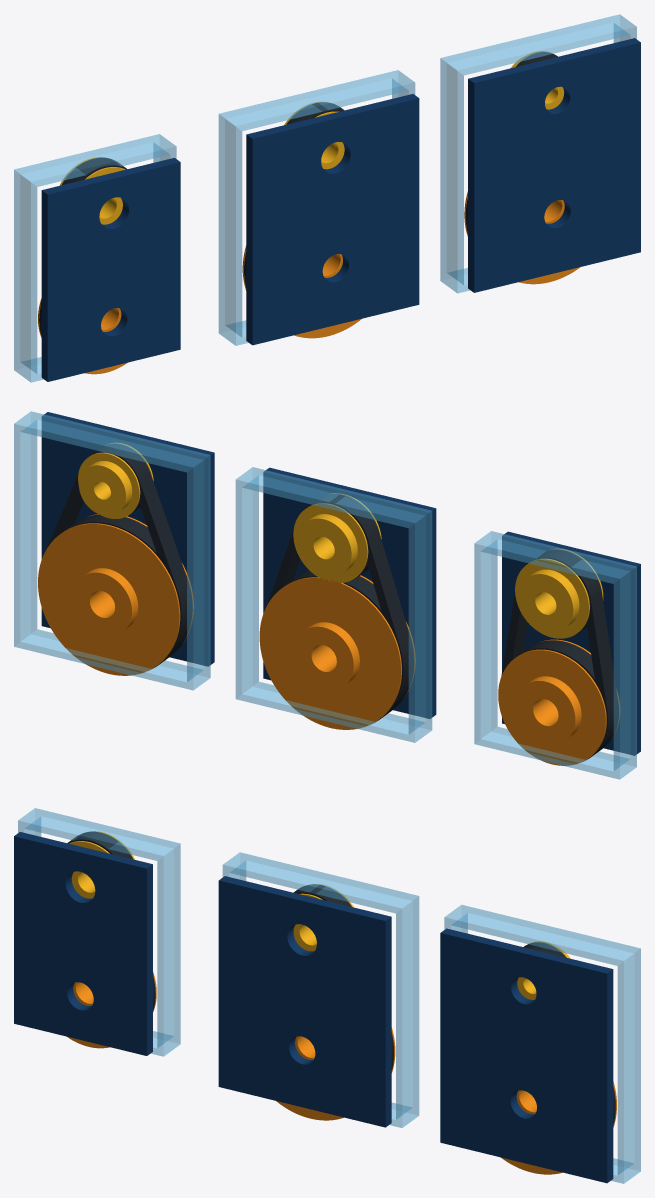
The model's file is HR-30_leg_drivetrain_lineup_candidate.glb.
3 renders of one model, top to bottom at view 1: azimuth 30°, elevation 25°; view 2: azimuth 150°, elevation 25°; view 3: azimuth 330°, elevation 25°, orthographic.
Visible parts, largest first — view 1: SLOTTED_CARRIER_PLATE (×3), REMOVABLE_GUARD_ENVELOPE (×3), MISUMI_OUTPUT_PULLEY_ENVELOPE (×3), MISUMI_EV5GT_BELT_ROUTING_ENVELOPE (×2), MISUMI_MOTOR_PULLEY_ENVELOPE (×2); view 2: REMOVABLE_GUARD_ENVELOPE (×3), MISUMI_OUTPUT_PULLEY_ENVELOPE (×3), SLOTTED_CARRIER_PLATE (×3), MISUMI_EV5GT_BELT_ROUTING_ENVELOPE (×3), MISUMI_MOTOR_PULLEY_ENVELOPE (×3); view 3: SLOTTED_CARRIER_PLATE (×3), REMOVABLE_GUARD_ENVELOPE (×3), MISUMI_OUTPUT_PULLEY_ENVELOPE (×3), MISUMI_EV5GT_BELT_ROUTING_ENVELOPE (×2), MISUMI_MOTOR_PULLEY_ENVELOPE (×2).
Boxes of the visible parts, left/top/right/bottom form: SLOTTED_CARRIER_PLATE (×3): left=41, top=38, right=640, bottom=381; REMOVABLE_GUARD_ENVELOPE (×3): left=14, top=14, right=636, bottom=382; MISUMI_OUTPUT_PULLEY_ENVELOPE (×3): left=38, top=191, right=580, bottom=374; MISUMI_EV5GT_BELT_ROUTING_ENVELOPE (×2): left=39, top=102, right=344, bottom=335; MISUMI_MOTOR_PULLEY_ENVELOPE (×2): left=59, top=102, right=344, bottom=224; REMOVABLE_GUARD_ENVELOPE (×3): left=14, top=411, right=636, bottom=779; MISUMI_OUTPUT_PULLEY_ENVELOPE (×3): left=38, top=514, right=619, bottom=765; SLOTTED_CARRIER_PLATE (×3): left=41, top=412, right=640, bottom=755; MISUMI_EV5GT_BELT_ROUTING_ENVELOPE (×3): left=47, top=444, right=618, bottom=761; MISUMI_MOTOR_PULLEY_ENVELOPE (×3): left=78, top=443, right=603, bottom=638; SLOTTED_CARRIER_PLATE (×3): left=14, top=832, right=613, bottom=1183; REMOVABLE_GUARD_ENVELOPE (×3): left=18, top=808, right=640, bottom=1183; MISUMI_OUTPUT_PULLEY_ENVELOPE (×3): left=67, top=972, right=616, bottom=1174; MISUMI_EV5GT_BELT_ROUTING_ENVELOPE (×2): left=67, top=831, right=393, bottom=1070; MISUMI_MOTOR_PULLEY_ENVELOPE (×2): left=69, top=831, right=353, bottom=951.
Size of the model in its own units: 287 by 105 by 23.5.
